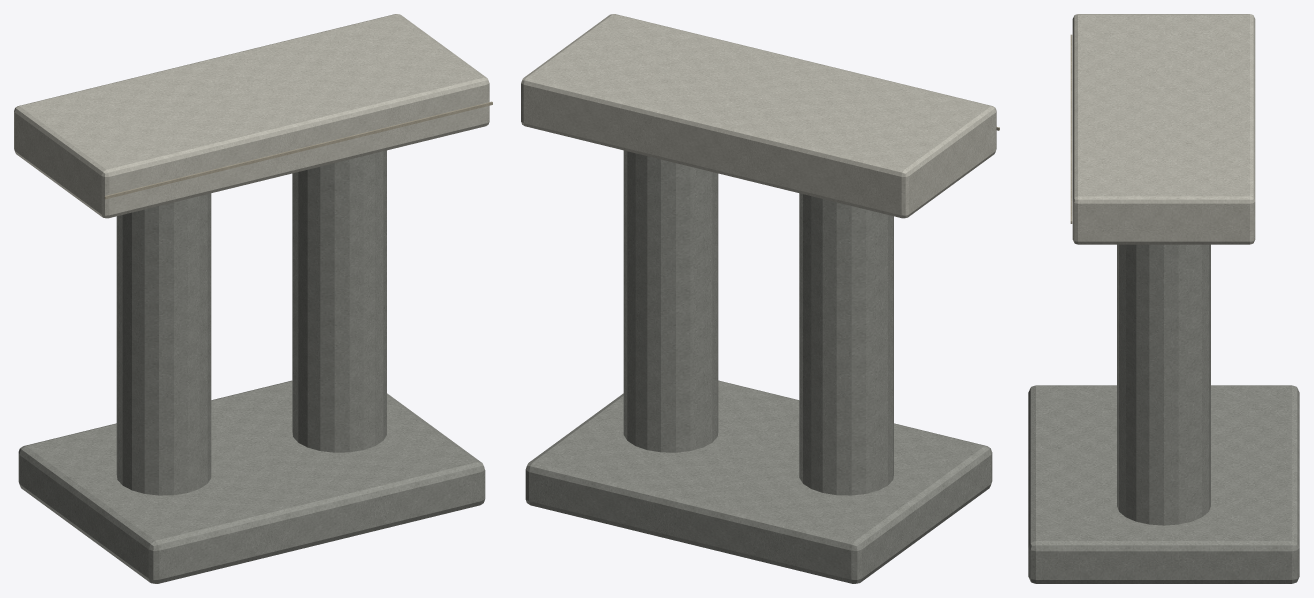
Rendered from BRG_SUPPORT_PIER_1x1_HIGH_150.glb.
The picture shows the model from 3 angles, left to right: view 1: azimuth 30°, elevation 25°; view 2: azimuth 150°, elevation 25°; view 3: azimuth 270°, elevation 25°; orthographic projection.
Parts seen in each view (by area): view 1: BRG_SUPPORT_PIER_1x1_HIGH_150_Visual; view 2: BRG_SUPPORT_PIER_1x1_HIGH_150_Visual; view 3: BRG_SUPPORT_PIER_1x1_HIGH_150_Visual.
Part boxes in pixels (x1,y1,x2,y2): BRG_SUPPORT_PIER_1x1_HIGH_150_Visual: (14, 14, 492, 583); BRG_SUPPORT_PIER_1x1_HIGH_150_Visual: (521, 14, 999, 583); BRG_SUPPORT_PIER_1x1_HIGH_150_Visual: (1028, 14, 1299, 583).
Size of what is drawn, in the model's own units: 1.5 by 1.5 by 0.92.
Materials: 4 (3 with a texture image).
